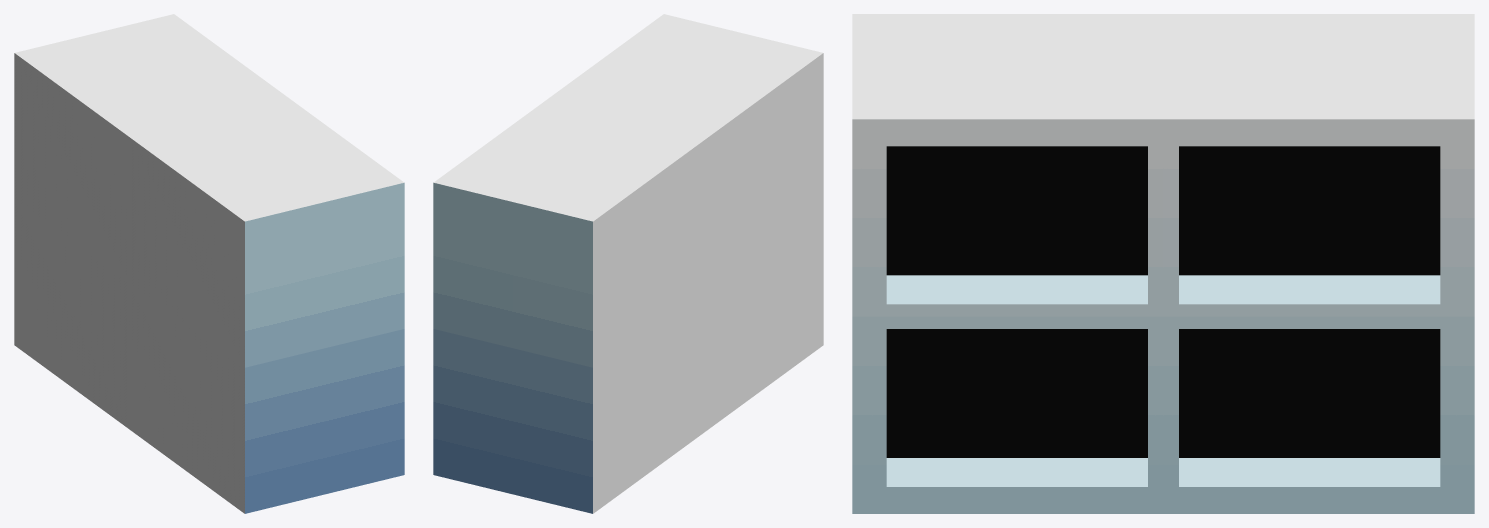
The model's file is window.fbx.
3 views of the same model, side by side, from view 1: azimuth 30°, elevation 25°; view 2: azimuth 150°, elevation 25°; view 3: azimuth 270°, elevation 25° (orthographic). The views are drawn at different scales.
Parts seen in each view (by area): view 1: window; view 2: window; view 3: window.
Boxes of the visible parts, <box> form: window: <box>14,14,404,513</box>; window: <box>433,14,823,513</box>; window: <box>852,14,1474,513</box>.
Size of the model in its own units: 12.5 by 21.88 by 31.25.
Materials: 1 (1 with a texture image).
